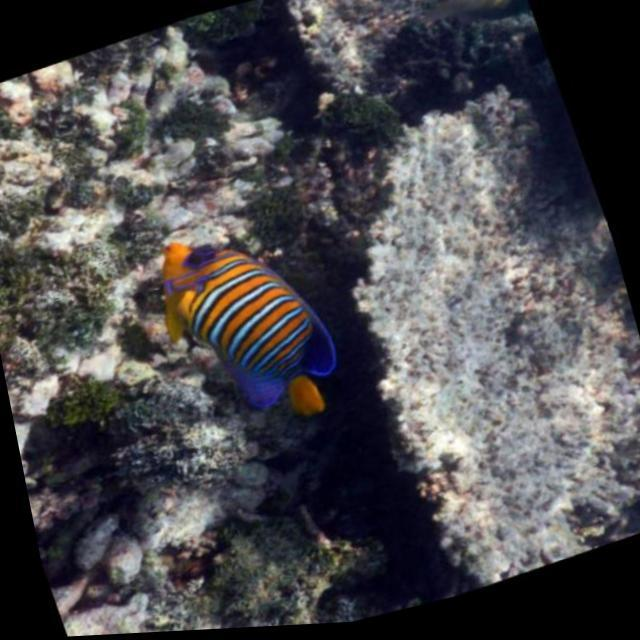Dead Coral: (274, 57, 640, 599)
